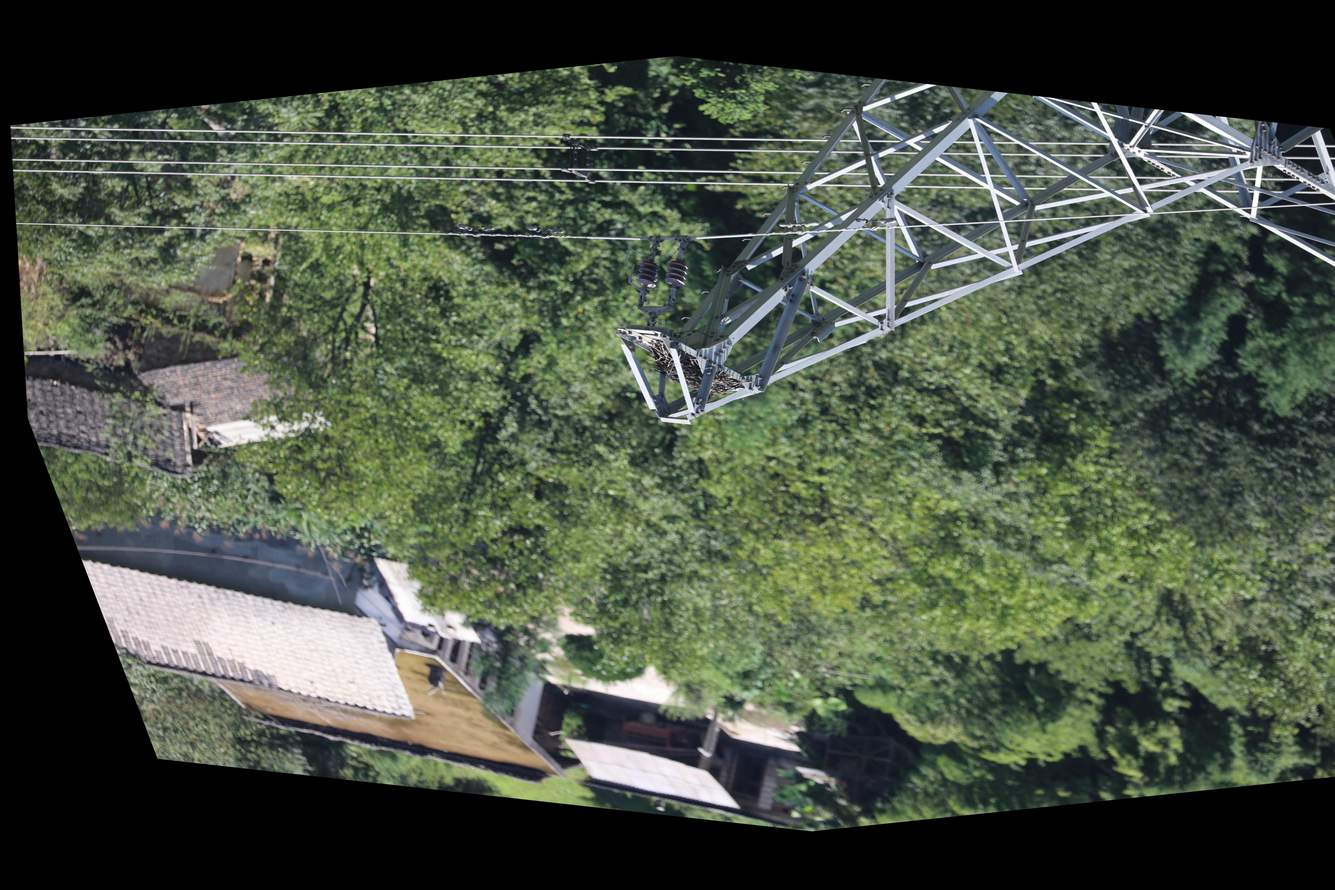damper: (847, 207, 905, 239), (770, 210, 828, 242), (518, 219, 572, 247), (470, 218, 521, 246)
